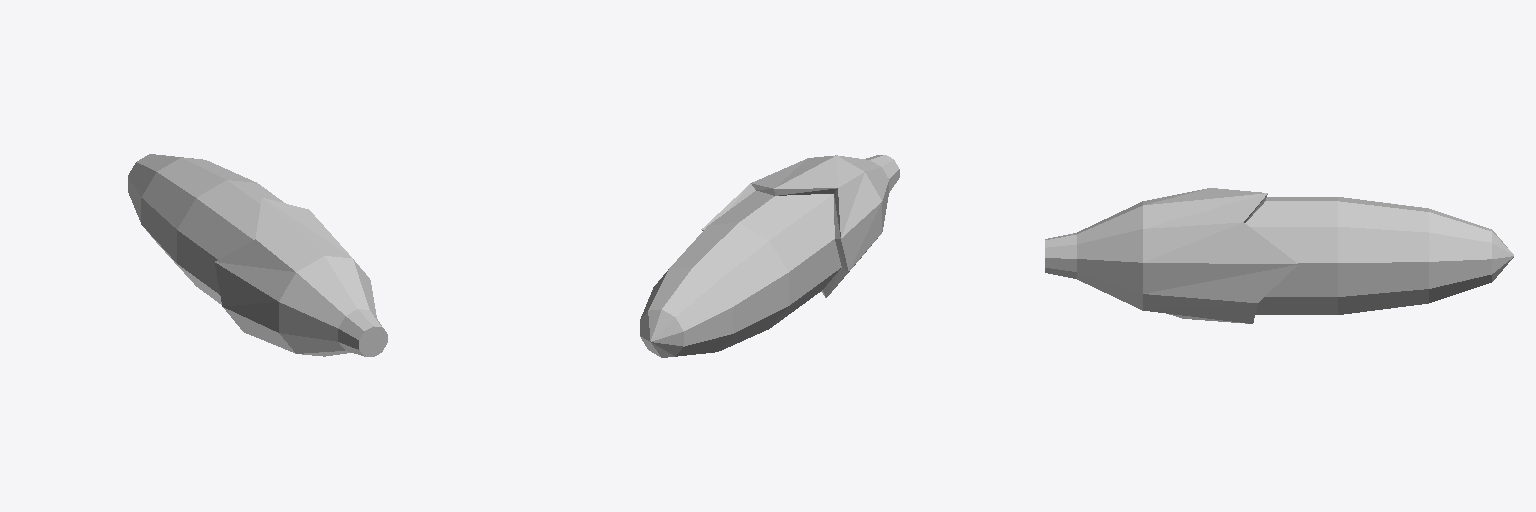
The picture shows the model from 3 angles: view 1: azimuth 30°, elevation 25°; view 2: azimuth 150°, elevation 25°; view 3: azimuth 270°, elevation 25°; orthographic projection.
Visible parts, largest first — view 1: Corn_Sphere.018; view 2: Corn_Sphere.018; view 3: Corn_Sphere.018.
Boxes of the visible parts, box(x1,y1,x2,y2) form: Corn_Sphere.018: box(128, 154, 387, 356); Corn_Sphere.018: box(640, 155, 899, 357); Corn_Sphere.018: box(1045, 188, 1513, 323).
Bounding box in the file's own units: 1.81 × 1.9 × 6.44.